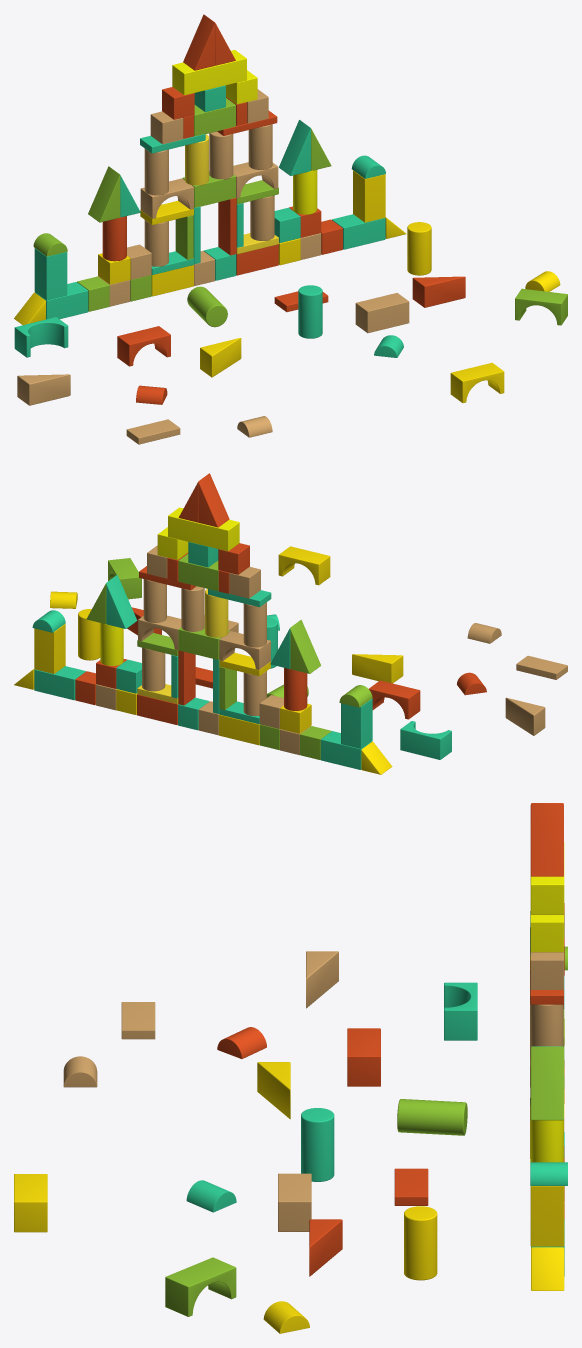
Rendered from lego.fbx.
3 views of the same model, one above another, from view 1: azimuth 30°, elevation 25°; view 2: azimuth 150°, elevation 25°; view 3: azimuth 270°, elevation 25° (orthographic). The views are drawn at different scales.
Parts seen in each view (by area): view 1: Cube.051, Cube.024, Cube.031, Cube.006, Cube.058, Cube.002, Cube.022, Cube.016, Cube.003, Cylinder.003, Cylinder.007, Cube.012 (+43 smaller); view 2: Cube.051, Cube.006, Cube.031, Cube.058, Cube.017, Cube.016, Cube.003, Cube.028, Cube.052, Cube.056, Cube.012, Cube.022 (+52 smaller); view 3: Cube.013, Cube.057, Cube.053, Cylinder.007, Cylinder.004, Cylinder.003, Cube.058, Cube.003, Cube.006, Cube.016, Cube.024, Cube.002 (+15 smaller).
Part boxes in pixels (box(x1,y1,x2,y2)): Cube.051: box(172, 50, 246, 95); Cube.024: box(355, 293, 409, 333); Cube.031: box(34, 248, 67, 300); Cube.006: box(14, 317, 68, 357); Cube.058: box(353, 170, 385, 222); Cube.002: box(412, 276, 465, 307); Cube.022: box(17, 374, 70, 405); Cube.016: box(450, 362, 504, 402); Cube.003: box(117, 326, 170, 366); Cylinder.003: box(298, 285, 322, 338); Cylinder.007: box(407, 222, 431, 275); Cube.012: box(88, 166, 120, 222); Cube.051: box(168, 507, 239, 551); Cube.006: box(400, 721, 451, 759); Cube.031: box(341, 698, 372, 748); Cube.058: box(34, 623, 65, 673); Cube.017: box(352, 654, 403, 683); Cube.016: box(278, 546, 330, 585); Cube.003: box(369, 680, 420, 719); Cube.028: box(34, 666, 85, 700); Cube.052: box(198, 473, 229, 527); Cube.056: box(106, 575, 137, 628); Cube.012: box(290, 619, 320, 673); Cube.022: box(505, 697, 545, 735); Cube.013: box(165, 1257, 236, 1316); Cube.057: box(530, 1046, 563, 1120); Cube.053: box(530, 803, 563, 876); Cylinder.007: box(404, 1206, 437, 1280); Cylinder.004: box(397, 1099, 467, 1135); Cylinder.003: box(301, 1108, 334, 1181); Cube.058: box(530, 1186, 564, 1246); Cube.003: box(347, 1028, 380, 1086); Cube.006: box(444, 982, 477, 1040); Cube.016: box(14, 1174, 47, 1232); Cube.024: box(278, 1173, 311, 1231); Cube.002: box(309, 1219, 342, 1276).
Bounding box in the file's own units: 622 × 296 × 412.
